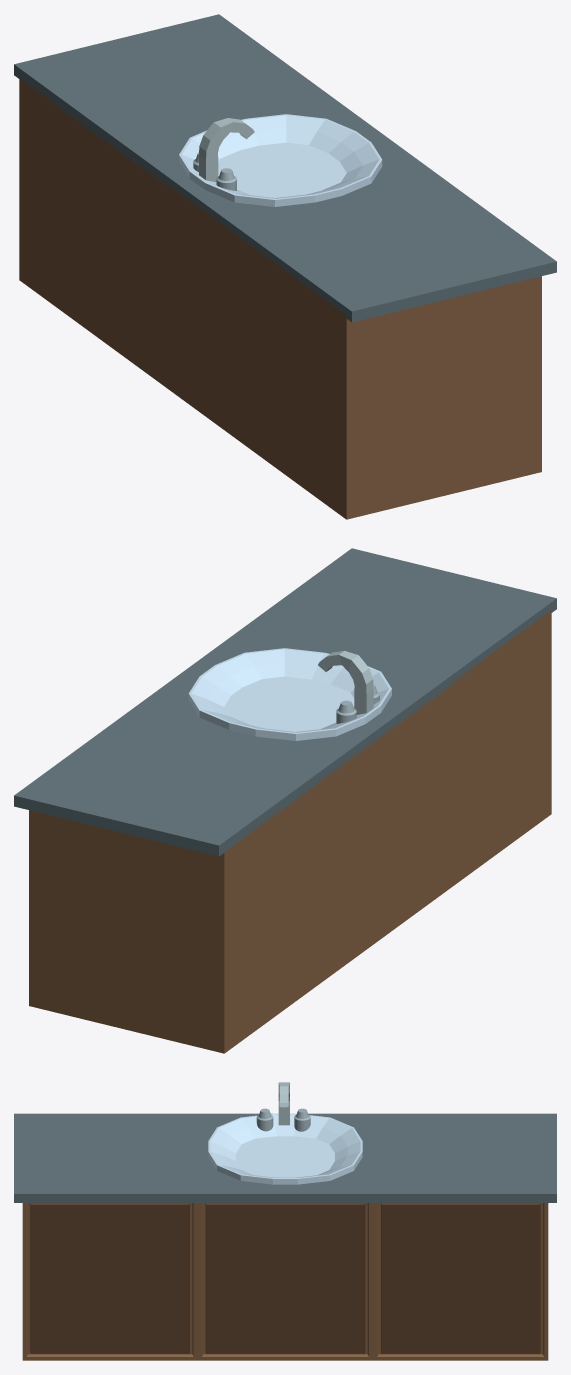
Rendered from BadSchrank.fbx.
3 views of the same model, one above another, from view 1: azimuth 30°, elevation 25°; view 2: azimuth 150°, elevation 25°; view 3: azimuth 270°, elevation 25° (orthographic). The views are drawn at different scales.
Visible parts, largest first — view 1: Cylinder.001; view 2: Cylinder.001; view 3: Cylinder.001.
Boxes of the visible parts, x1,y1,x2,y2 form: Cylinder.001: (14,14,556,519); Cylinder.001: (14,548,556,1053); Cylinder.001: (14,1082,556,1360).
Bounding box in the file's own units: 137 × 172 × 392.
